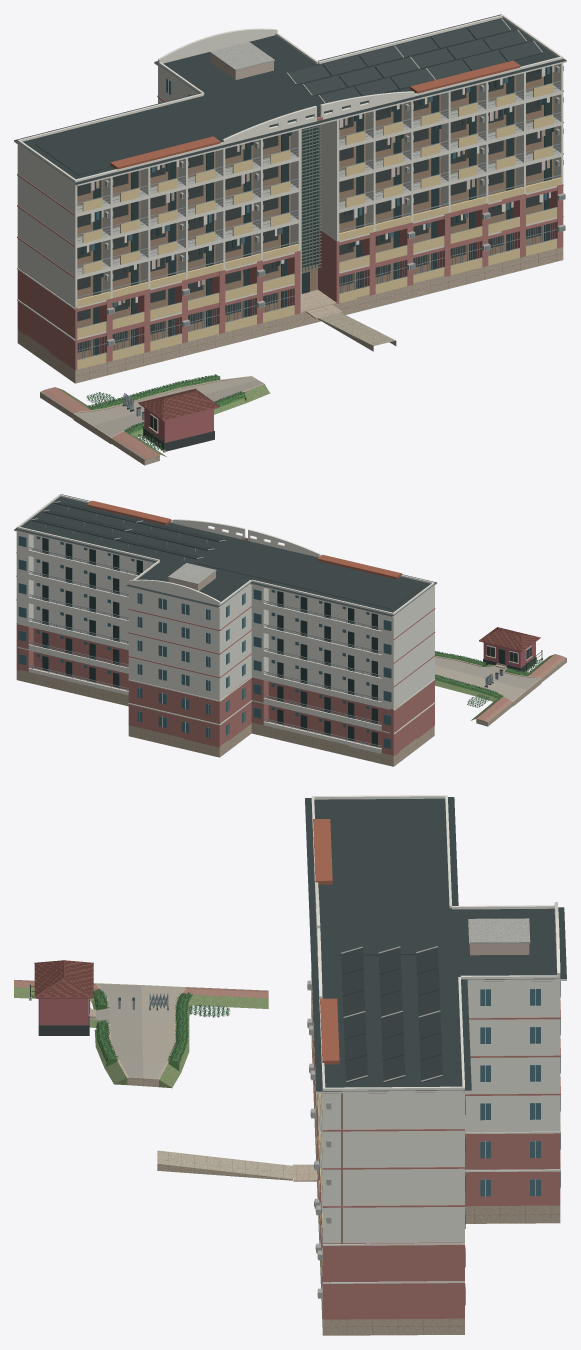
The model's file is chunk-dorm-way-759158609.glb.
The picture shows the model from 3 angles, top to bottom: view 1: azimuth 30°, elevation 25°; view 2: azimuth 150°, elevation 25°; view 3: azimuth 270°, elevation 25°; orthographic projection. The views are drawn at different scales.
Parts seen in each view (by area): view 1: chunk-dorm-way-759158609; view 2: chunk-dorm-way-759158609; view 3: chunk-dorm-way-759158609.
Part boxes in pixels (x1=…): chunk-dorm-way-759158609: x1=14, y1=14, x2=566, y2=465; chunk-dorm-way-759158609: x1=14, y1=494, x2=566, y2=766; chunk-dorm-way-759158609: x1=14, y1=795, x2=566, y2=1335.
Bounding box in the file's own units: 60.45 × 22.74 × 43.43.
Materials: 29 (4 with a texture image).
